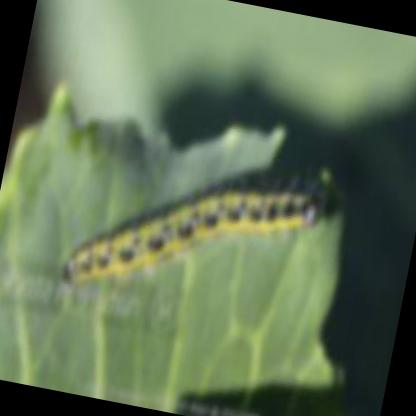pieris: (64, 179, 317, 278)
